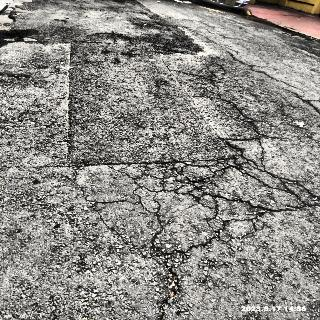alligator-crack: (61, 153, 320, 256)
crack: (203, 78, 281, 162), (227, 51, 304, 91), (158, 260, 183, 320), (285, 90, 320, 114), (201, 35, 241, 53)
